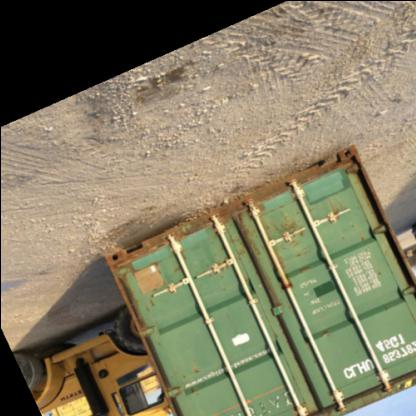Damage: (228, 202, 258, 264), (240, 387, 293, 415), (270, 211, 306, 244), (110, 249, 134, 286), (338, 223, 368, 251), (141, 294, 161, 321), (314, 321, 332, 345), (182, 366, 204, 384), (328, 206, 344, 223)
